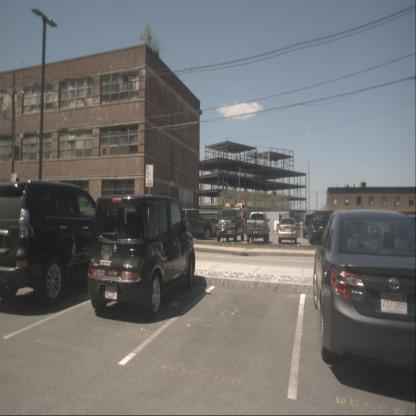vehicle-car: (313, 209, 415, 384), (0, 179, 121, 305), (86, 193, 198, 317), (179, 208, 212, 240), (216, 210, 245, 242), (308, 211, 330, 244), (278, 217, 297, 245), (303, 212, 317, 240), (203, 218, 223, 234)
vehicle-truck: (246, 211, 269, 242)
